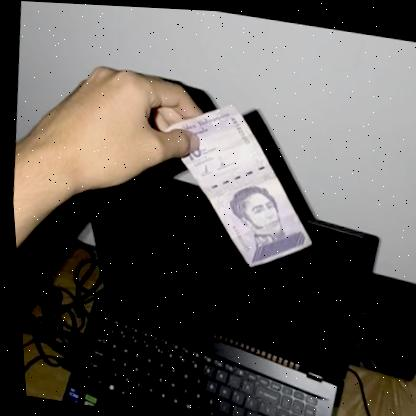ten-front-vef: (139, 86, 325, 275)
